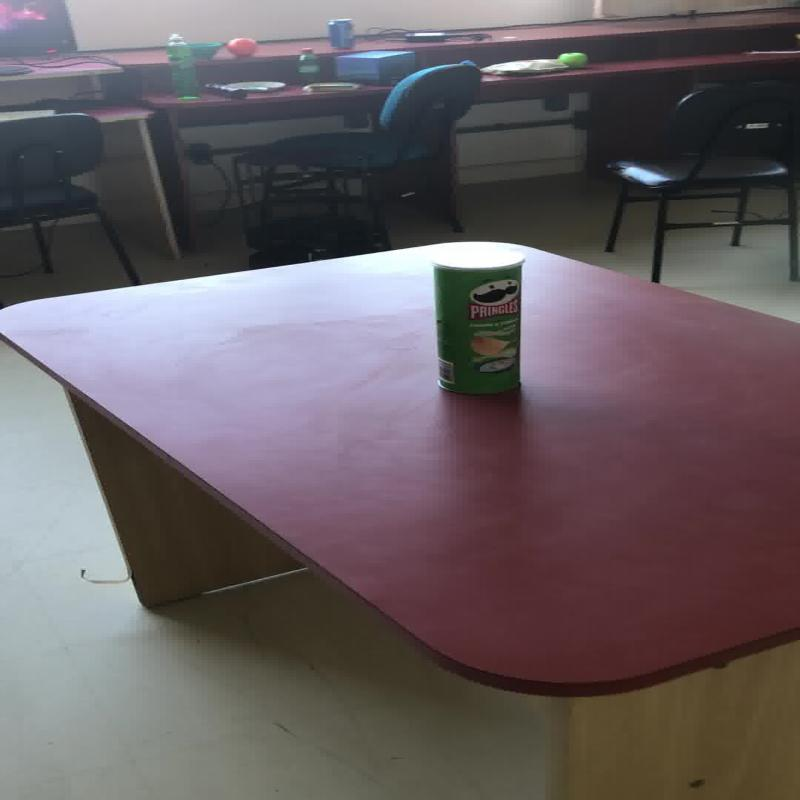pringles: (428, 247, 524, 394)
